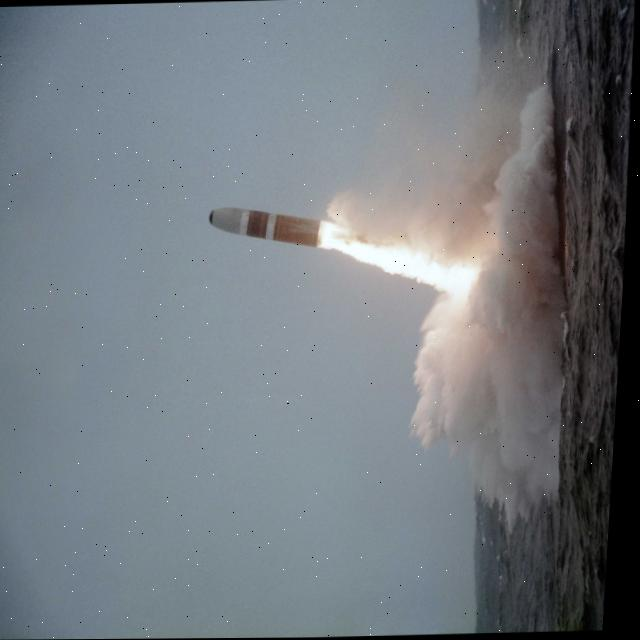missile: (203, 204, 326, 253)
